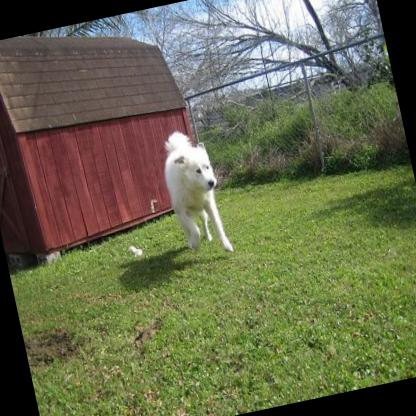Great_Pyrenees: (152, 120, 240, 270)
